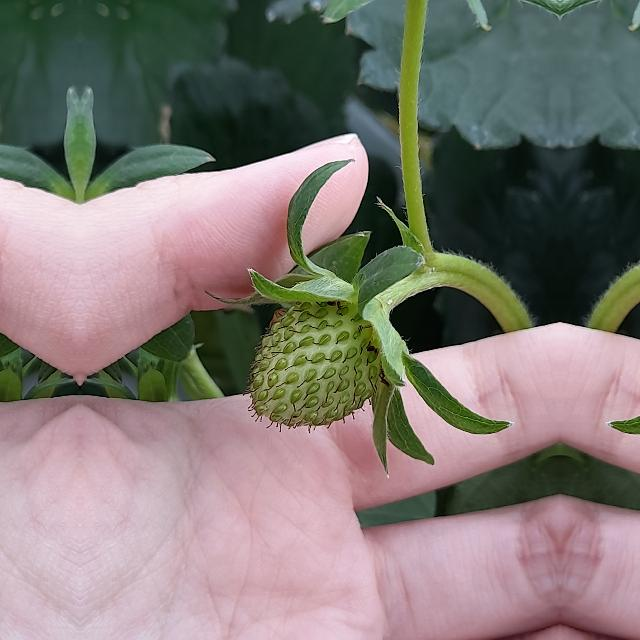Health_25: (242, 301, 382, 433)
